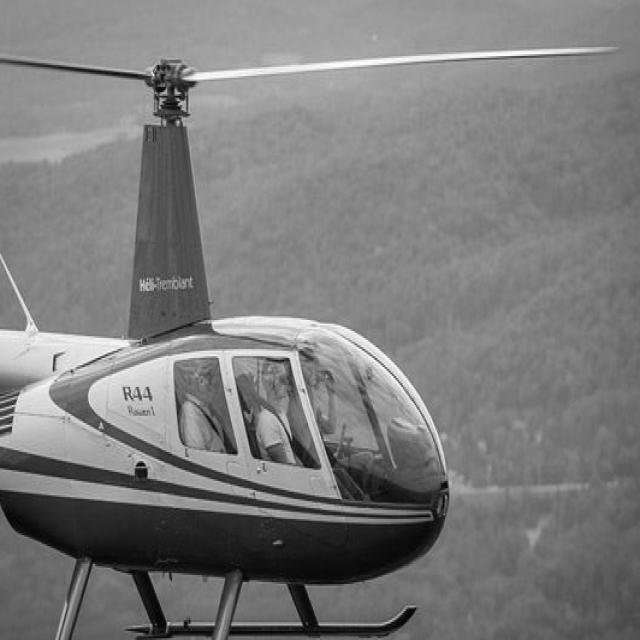helicopter: (1, 31, 452, 640)
